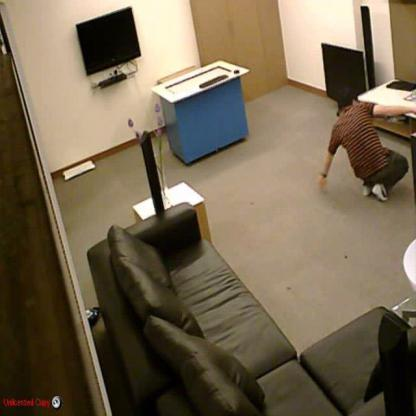Person: (319, 87, 415, 200)
